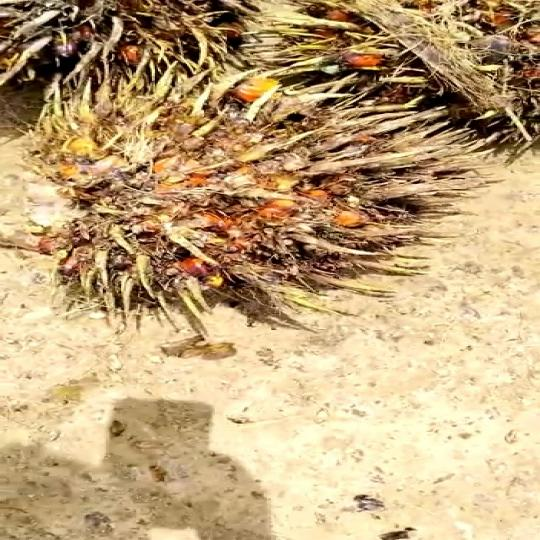terlalu masak: (0, 53, 476, 339)
